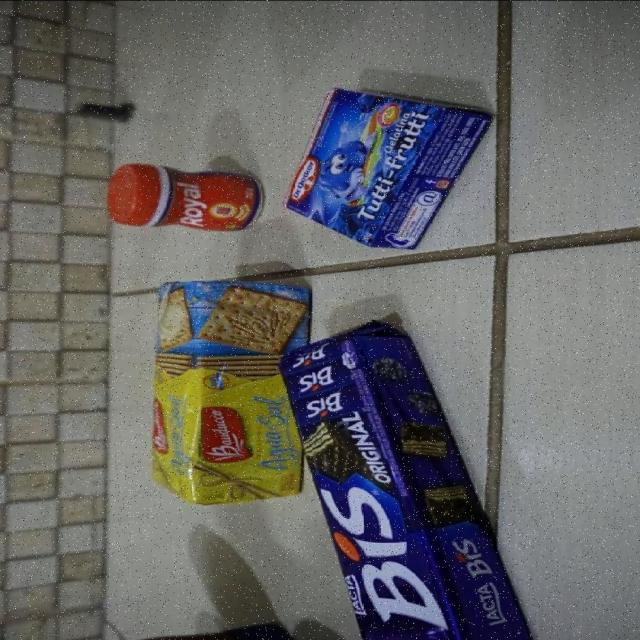Cracker: (148, 278, 312, 504)
Gelatine: (280, 86, 497, 249)
Ketchup: (0, 621, 308, 640)
Yeast: (106, 162, 264, 232)
